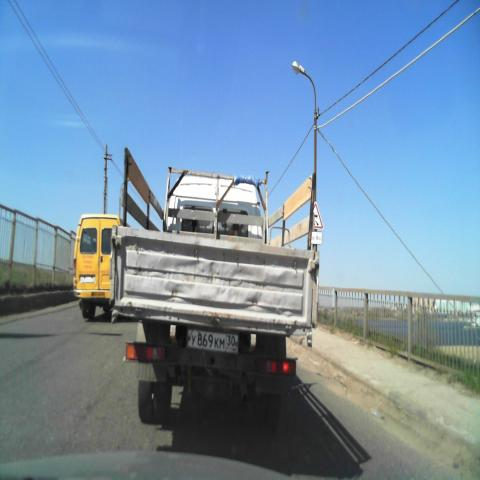1_15: (306, 202, 324, 230)
8_5_4: (306, 231, 322, 245)
